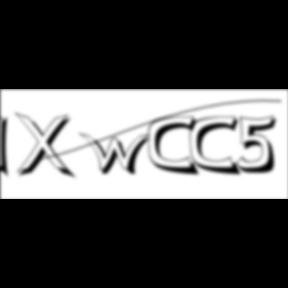5: (236, 114, 284, 176)
C: (148, 115, 204, 178), (190, 115, 244, 178)
I: (0, 110, 16, 182)
X: (15, 112, 79, 182)
w: (80, 132, 158, 178)
